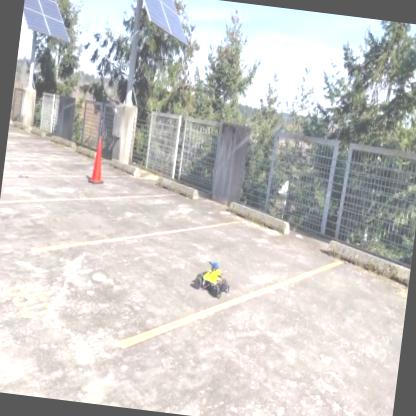cone: (88, 135, 108, 188)
mushr_car: (186, 255, 234, 306)
